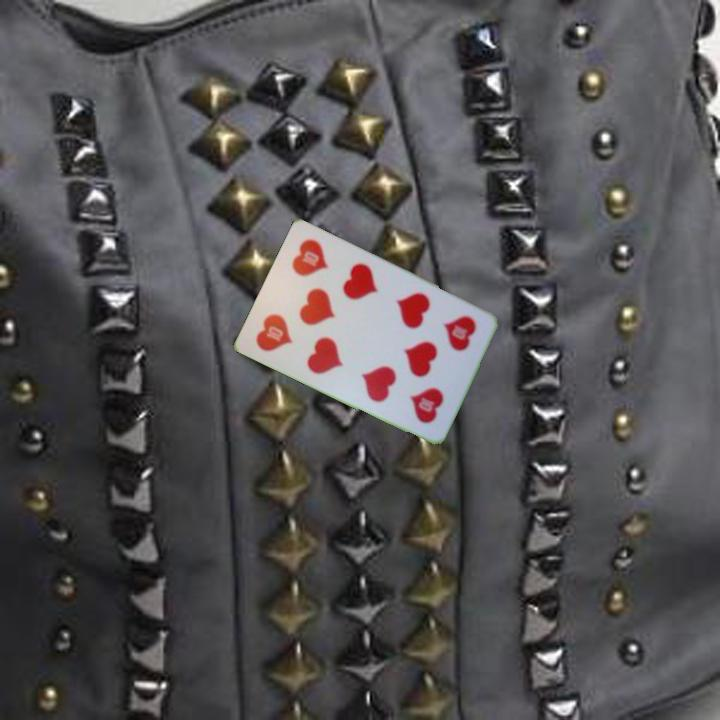h_10.png: (245, 285, 325, 369), (410, 297, 490, 380)
